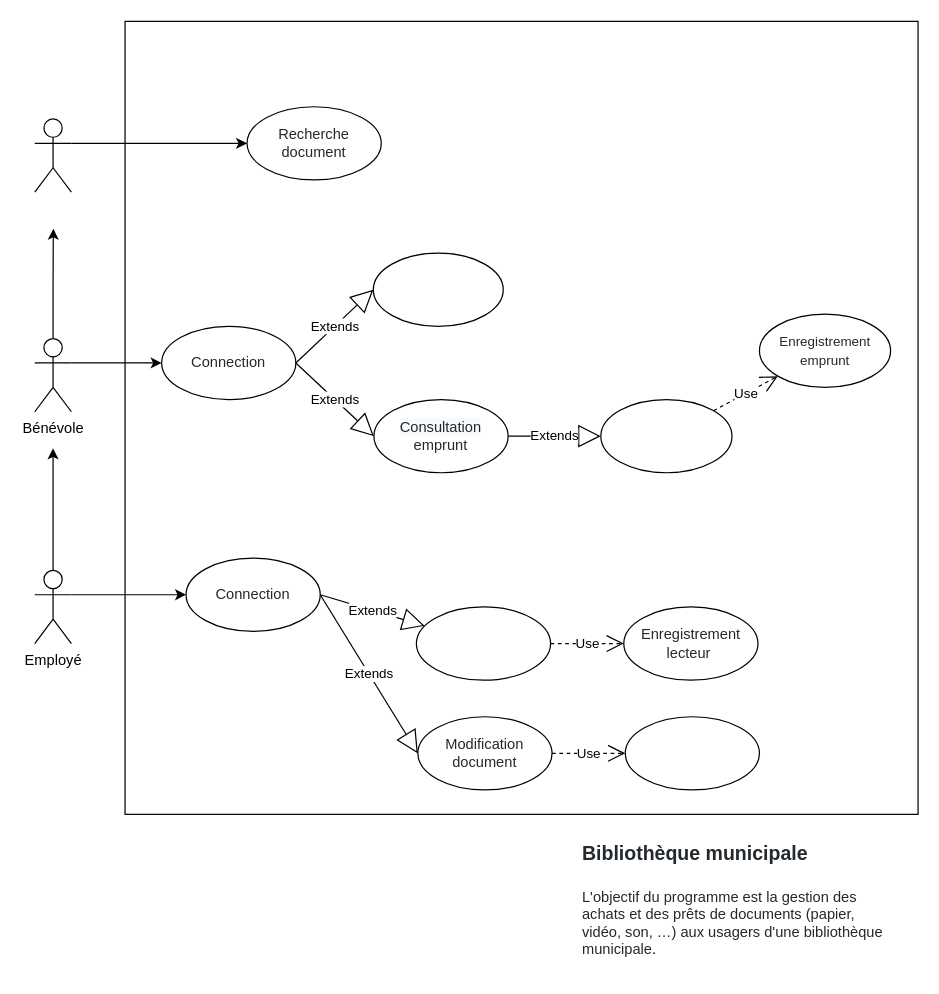
This 939x994 diagram has some shape labels left out. Each missing label, with the centre of its shape:
"Consultation lecteur" belongs at pixel 437 289.
"Enregistrement document" belongs at pixel 691 753.
"Lecteur" belongs at pixel 52 155.
"Modification emprunt" belongs at pixel 666 435.
"Modification lecteur" belongs at pixel 483 643.
